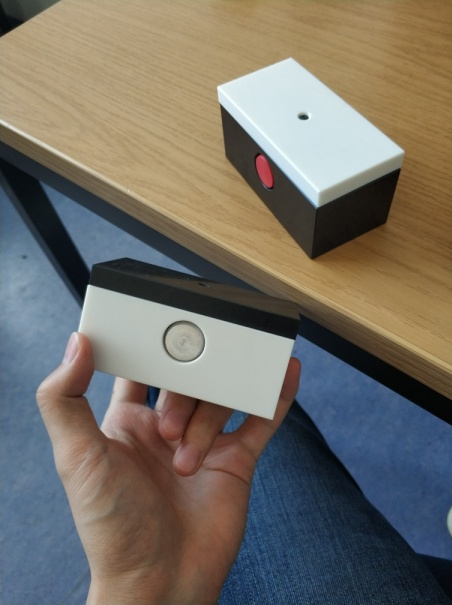black+white+silver: (77, 256, 302, 420)
white+black+red: (213, 54, 407, 262)
